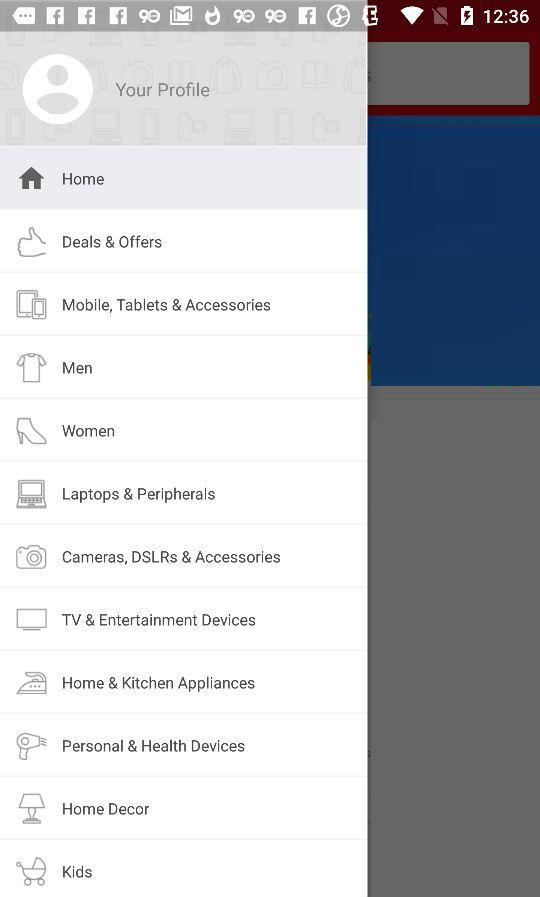Drawer: (1, 33, 368, 897)
Icon: (23, 54, 95, 125), (16, 856, 48, 887), (16, 545, 48, 570), (19, 167, 46, 191)
Image: (17, 227, 49, 259), (16, 290, 49, 321), (17, 479, 49, 510), (17, 353, 48, 384), (16, 417, 49, 446), (18, 793, 47, 825), (17, 732, 49, 761), (16, 608, 49, 632), (16, 672, 48, 695)
Text: (63, 298, 272, 315), (63, 550, 281, 566), (63, 675, 256, 693), (63, 486, 216, 504), (62, 613, 256, 627), (63, 739, 246, 753), (116, 82, 211, 99), (63, 235, 163, 250), (63, 802, 150, 816), (62, 425, 116, 439), (63, 173, 105, 187), (63, 865, 93, 879), (63, 362, 94, 375)
UpperTaskBar: (1, 1, 540, 33)
